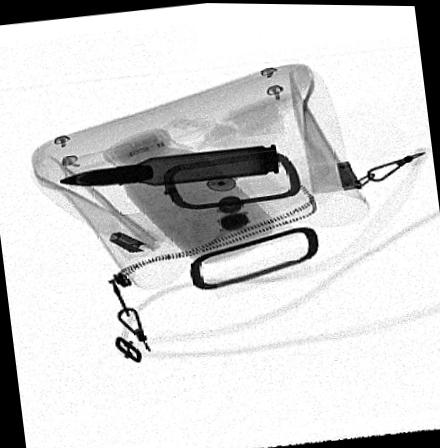Bullet: (54, 143, 280, 187)
